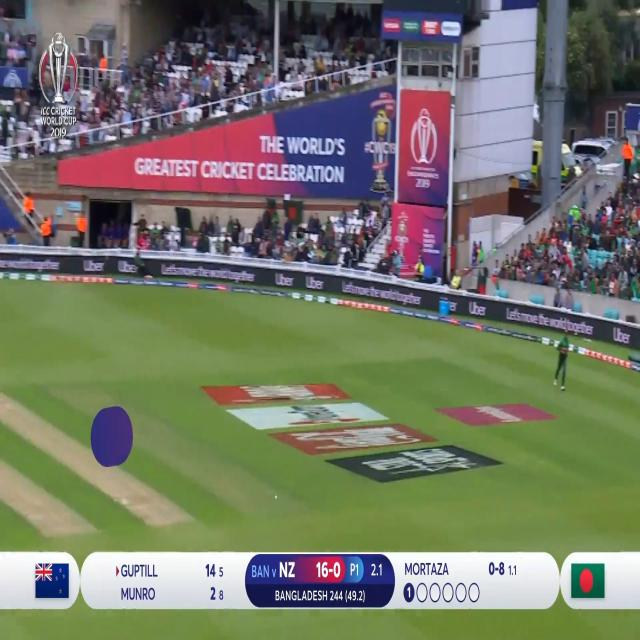ball: (270, 490, 284, 509)
